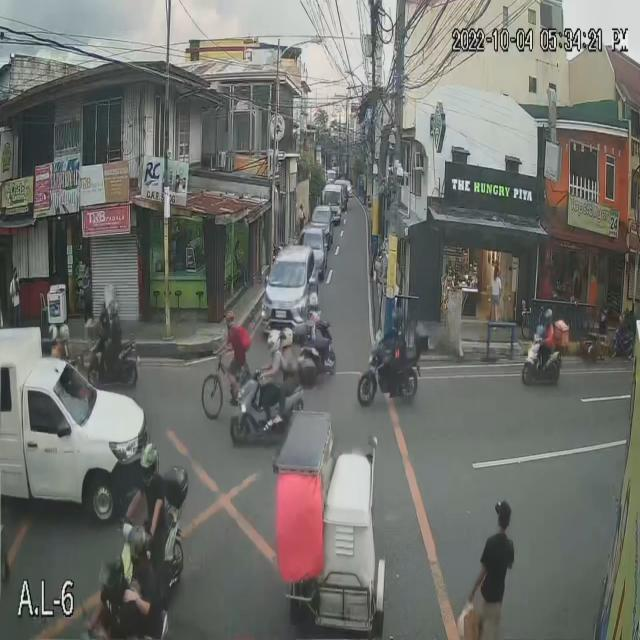full: (140, 442, 160, 487), (267, 330, 280, 354), (280, 327, 292, 348)
